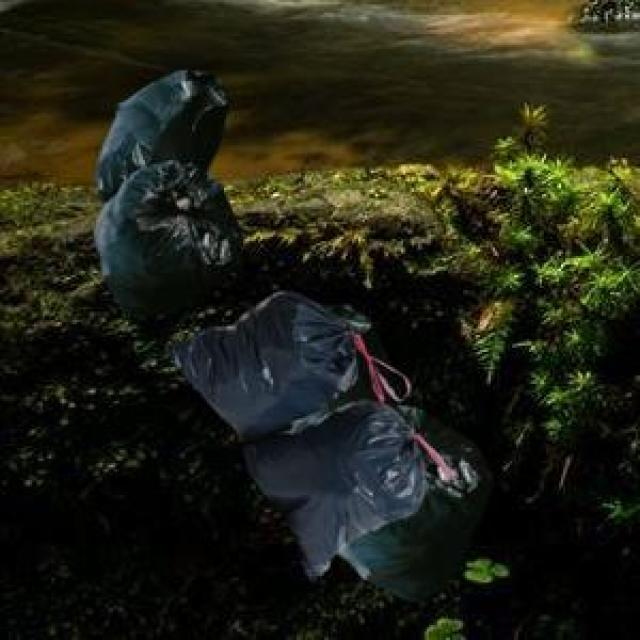Trashbag: (264, 412, 431, 573), (179, 292, 354, 439), (90, 162, 242, 327), (95, 64, 230, 181)
